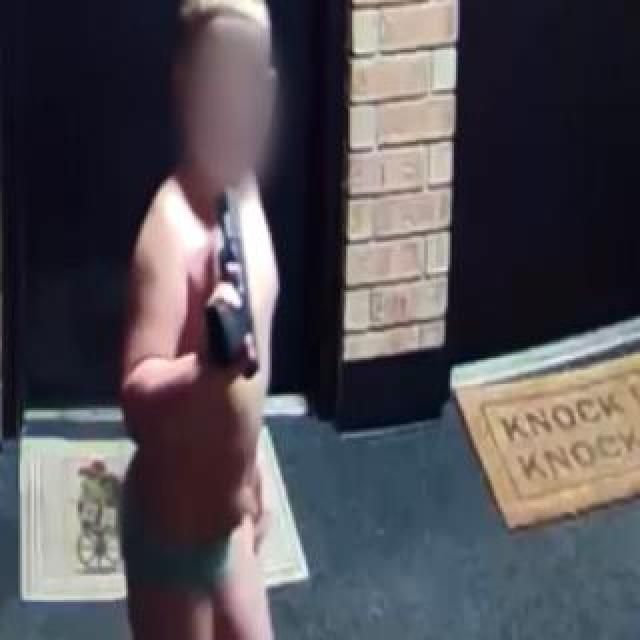Guns: (179, 168, 286, 389)
